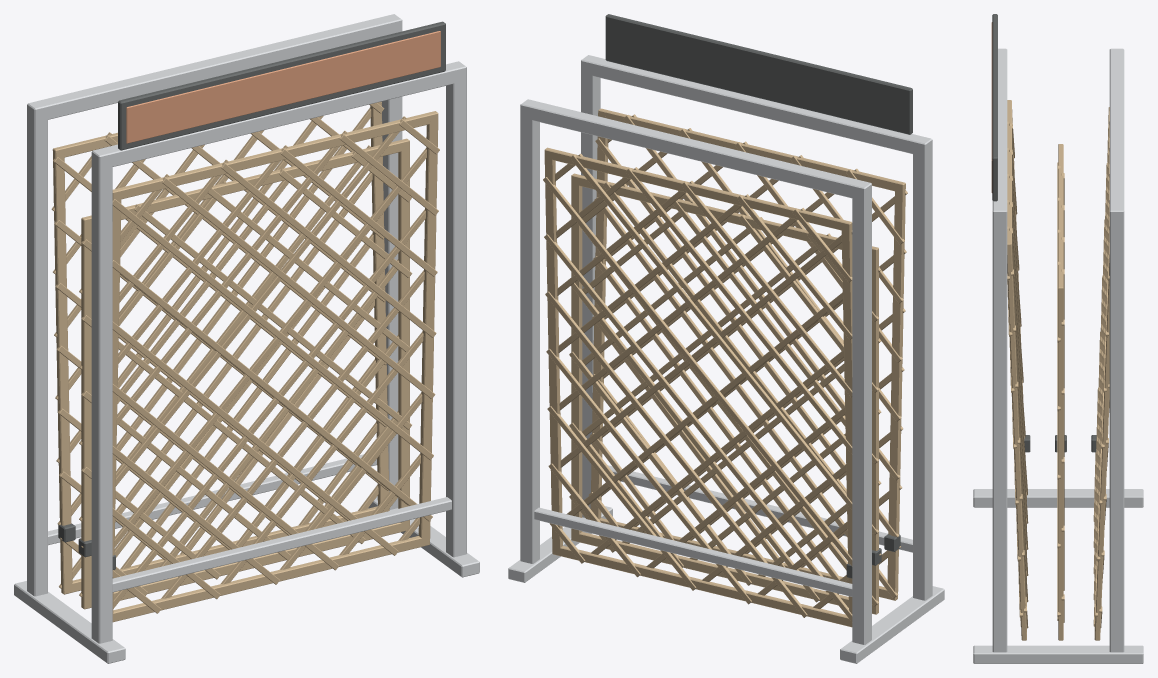
The model's file is garden-centre-and-florist-trellis-display-rack-b646cae2__17793.glb.
3 renders of one model, left to right at view 1: azimuth 30°, elevation 25°; view 2: azimuth 150°, elevation 25°; view 3: azimuth 270°, elevation 25°, orthographic. The views are drawn at different scales.
Parts seen in each view (by area): view 1: trellis-display-rack; view 2: trellis-display-rack; view 3: trellis-display-rack.
Boxes of the visible parts, x1=… form: trellis-display-rack: x1=14, y1=14, x2=479, y2=663; trellis-display-rack: x1=508, y1=14, x2=944, y2=663; trellis-display-rack: x1=973, y1=14, x2=1143, y2=663.
Bounding box in the file's own units: 1.6 × 2.25 × 0.7.
